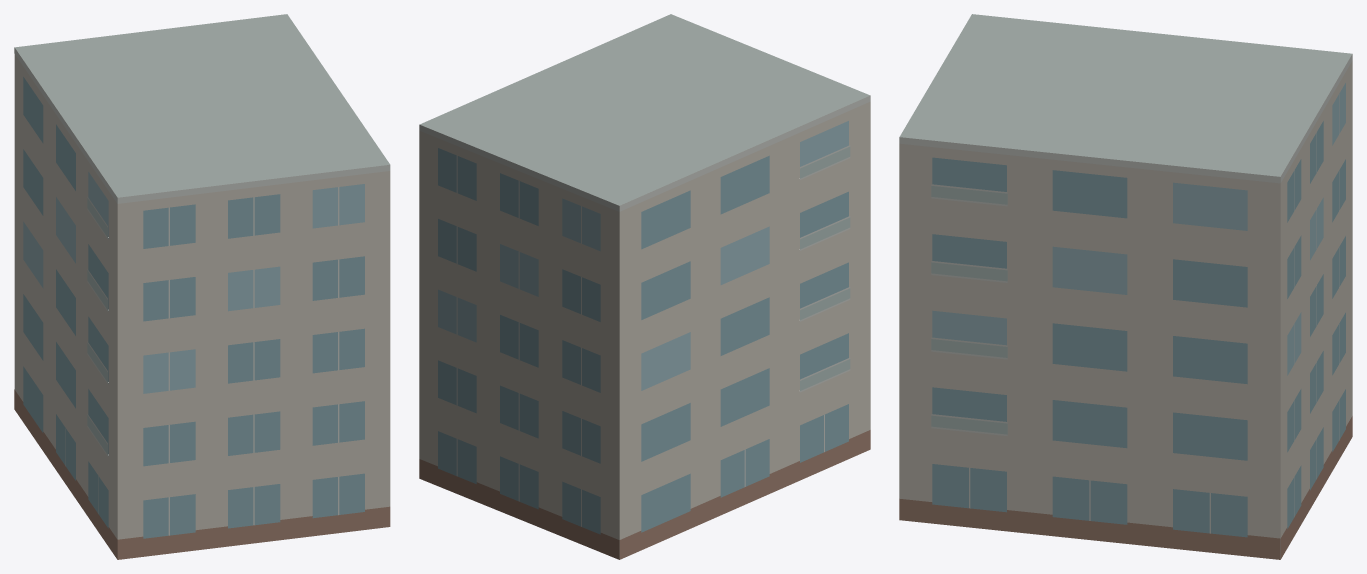
Rendered from survey-upis-32878455.glb.
The picture shows the model from 3 angles, left to right: view 1: azimuth 30°, elevation 25°; view 2: azimuth 150°, elevation 25°; view 3: azimuth 270°, elevation 25°; orthographic projection. The views are drawn at different scales.
Visible parts, largest first — view 1: survey-upis-32878455.tmp; view 2: survey-upis-32878455.tmp; view 3: survey-upis-32878455.tmp.
Boxes of the visible parts, x1,y1,x2,y2 form: survey-upis-32878455.tmp: (14, 14, 390, 559); survey-upis-32878455.tmp: (419, 14, 870, 559); survey-upis-32878455.tmp: (899, 14, 1352, 559).
Size of the model in its own units: 13.05 by 14.3 by 15.34.
